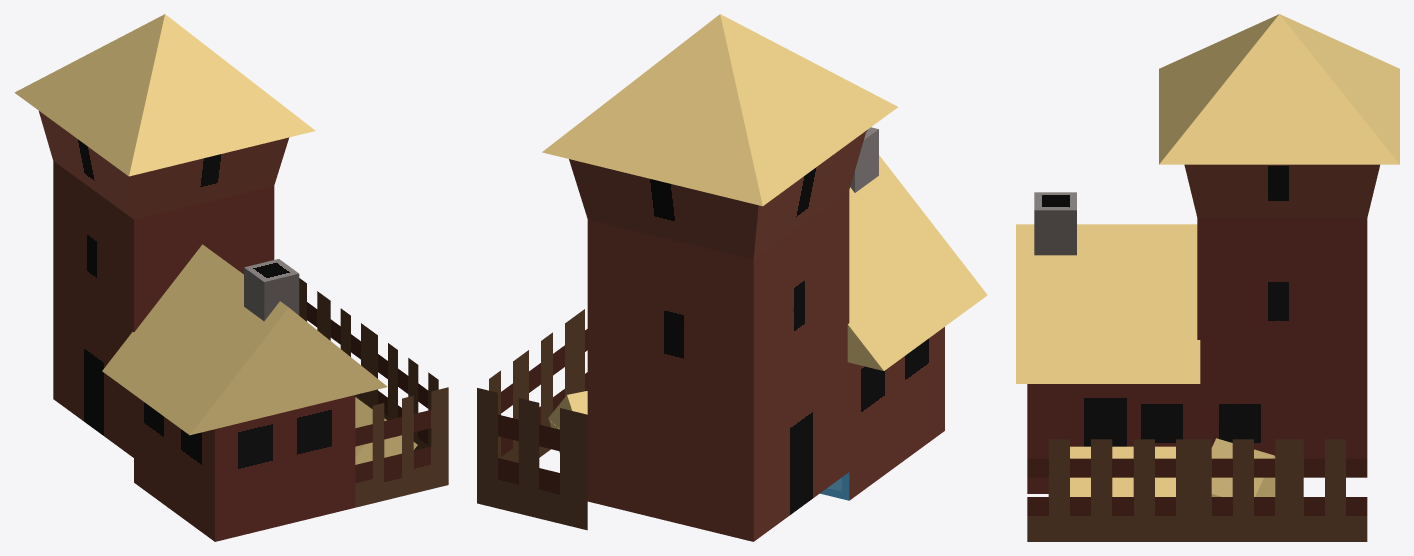
File: plains_house_2.gltf
The picture shows the model from 3 angles, left to right: view 1: azimuth 30°, elevation 25°; view 2: azimuth 150°, elevation 25°; view 3: azimuth 270°, elevation 25°; orthographic projection. The views are drawn at different scales.
Visible parts, largest first — view 1: Plains_house_2, pyramid, plane (×2), group23; view 2: Plains_house_2, pyramid, plane (×2), group24; view 3: Plains_house_2, pyramid, plane, group23, group24.
Part boxes in pixels (x1,y1,x2,y2): Plains_house_2: (39,111,387,541); pyramid: (14,14,315,176); plane (×2): (299,278,448,507); group23: (355,397,417,464); Plains_house_2: (569,127,987,541); pyramid: (542,14,897,206); plane (×2): (477,309,587,530); group24: (548,391,587,452); Plains_house_2: (1016,164,1379,493); pyramid: (1159,14,1399,164); plane: (1027,439,1367,541); group23: (1070,446,1175,496); group24: (1211,438,1275,496).
Size of the model in its own units: 0.7071 by 1.09 by 0.8469.
1 material, 1 textured.
